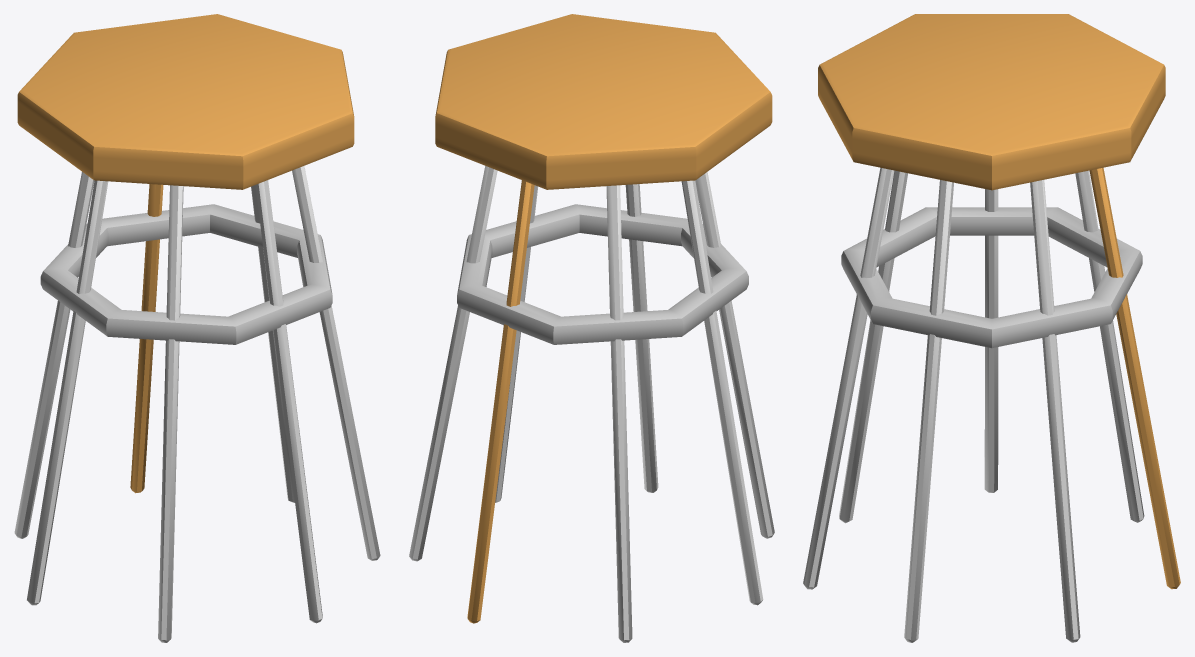
File: Asset05_Criado_Mudo.fbx
3 renders of one model, left to right at view 1: azimuth 30°, elevation 25°; view 2: azimuth 150°, elevation 25°; view 3: azimuth 270°, elevation 25°, orthographic. The views are drawn at different scales.
Parts seen in each view (by area): view 1: Cylinder, Tube, Cube_4, Cube_3, Cube_5, Cube_2, Cube_6, Cube_0, Cube_1; view 2: Cylinder, Tube, Cube_6, Cube_0, Cube_5, Cube_1, Cube_4, Cube_3, Cube_2; view 3: Cylinder, Tube, Cube_2, Cube_1, Cube_3, Cube_0, Cube_4, Cube_6, Cube_5.
Part boxes in pixels (bbox=[...]): Cylinder: bbox=[17, 14, 354, 189]; Tube: bbox=[40, 204, 332, 344]; Cube_4: bbox=[158, 185, 183, 642]; Cube_3: bbox=[255, 180, 322, 623]; Cube_5: bbox=[27, 180, 108, 605]; Cube_2: bbox=[292, 166, 380, 560]; Cube_6: bbox=[14, 172, 94, 538]; Cube_0: bbox=[130, 184, 163, 493]; Cube_1: bbox=[251, 185, 294, 502]; Cylinder: bbox=[435, 14, 772, 189]; Tube: bbox=[457, 204, 748, 344]; Cube_6: bbox=[606, 185, 632, 642]; Cube_0: bbox=[467, 180, 534, 623]; Cube_5: bbox=[681, 180, 763, 605]; Cube_1: bbox=[409, 166, 497, 561]; Cube_4: bbox=[695, 172, 774, 538]; Cube_3: bbox=[625, 184, 658, 492]; Cube_2: bbox=[495, 185, 538, 502]; Cylinder: bbox=[818, 14, 1165, 190]; Tube: bbox=[841, 207, 1142, 348]; Cube_2: bbox=[904, 180, 953, 642]; Cube_1: bbox=[1030, 180, 1080, 642]; Cube_3: bbox=[803, 167, 894, 589]; Cube_0: bbox=[1089, 167, 1180, 589]; Cube_4: bbox=[839, 170, 907, 523]; Cube_6: bbox=[1075, 170, 1144, 522]; Cube_5: bbox=[984, 189, 998, 492].
Size of the model in its own units: 111 by 162 by 113.
